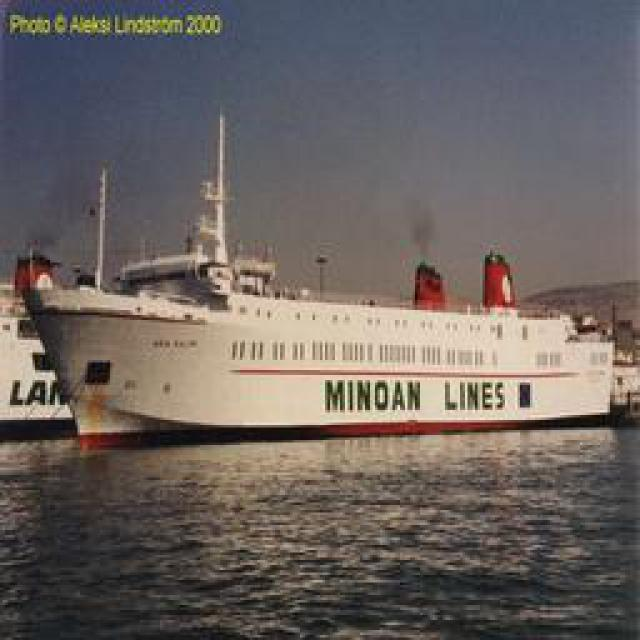Ship: (22, 228, 622, 446)
